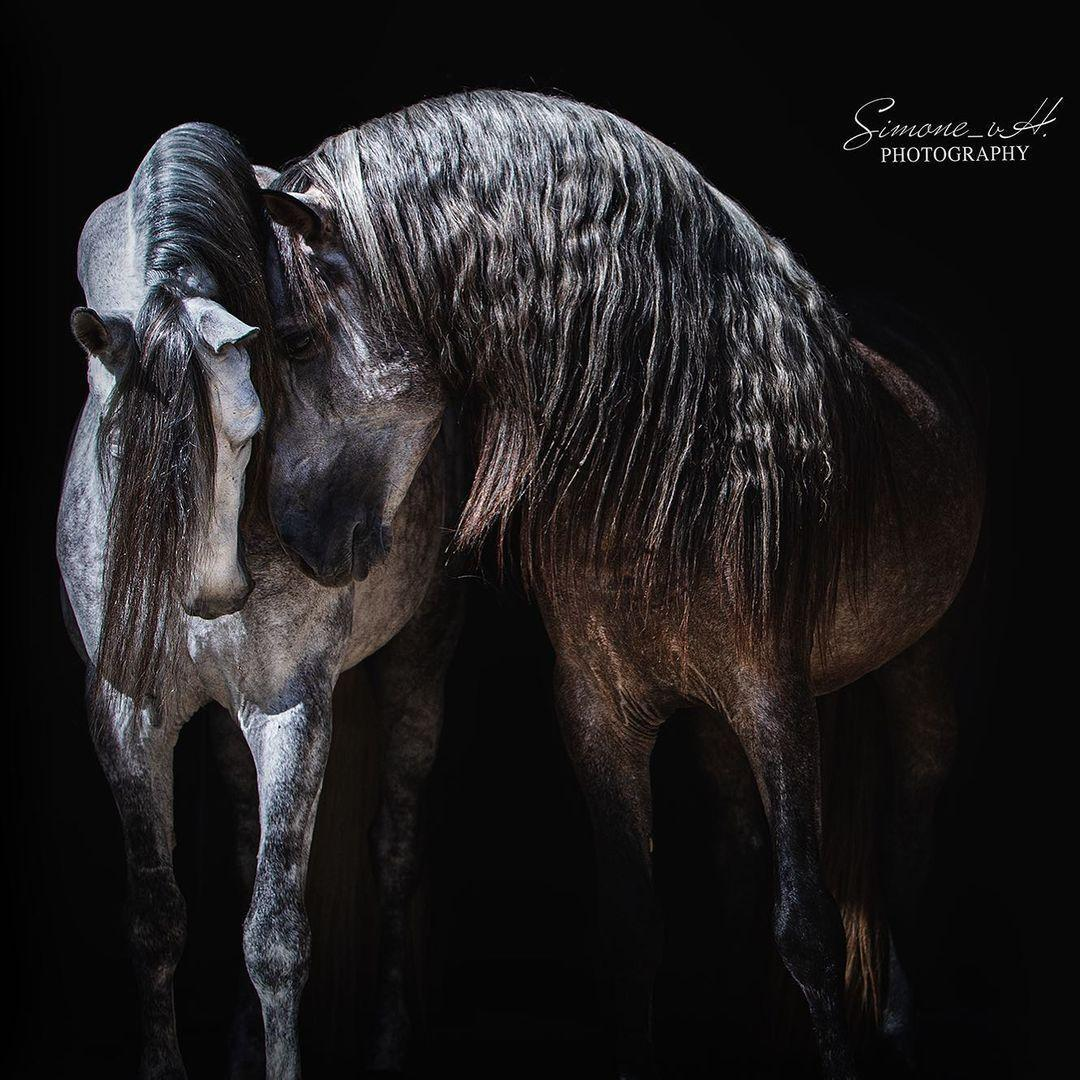horse: (53, 118, 471, 1077)
